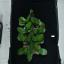leaf: (28, 49, 34, 61), (39, 47, 47, 55), (18, 33, 26, 41), (18, 17, 26, 25), (31, 17, 39, 25), (16, 48, 26, 54), (36, 26, 46, 32), (25, 21, 32, 29), (38, 34, 45, 42), (17, 26, 25, 32), (29, 40, 34, 49), (32, 35, 38, 42), (26, 12, 30, 22), (32, 28, 38, 34), (26, 36, 31, 42), (38, 22, 45, 26), (35, 43, 39, 50)
